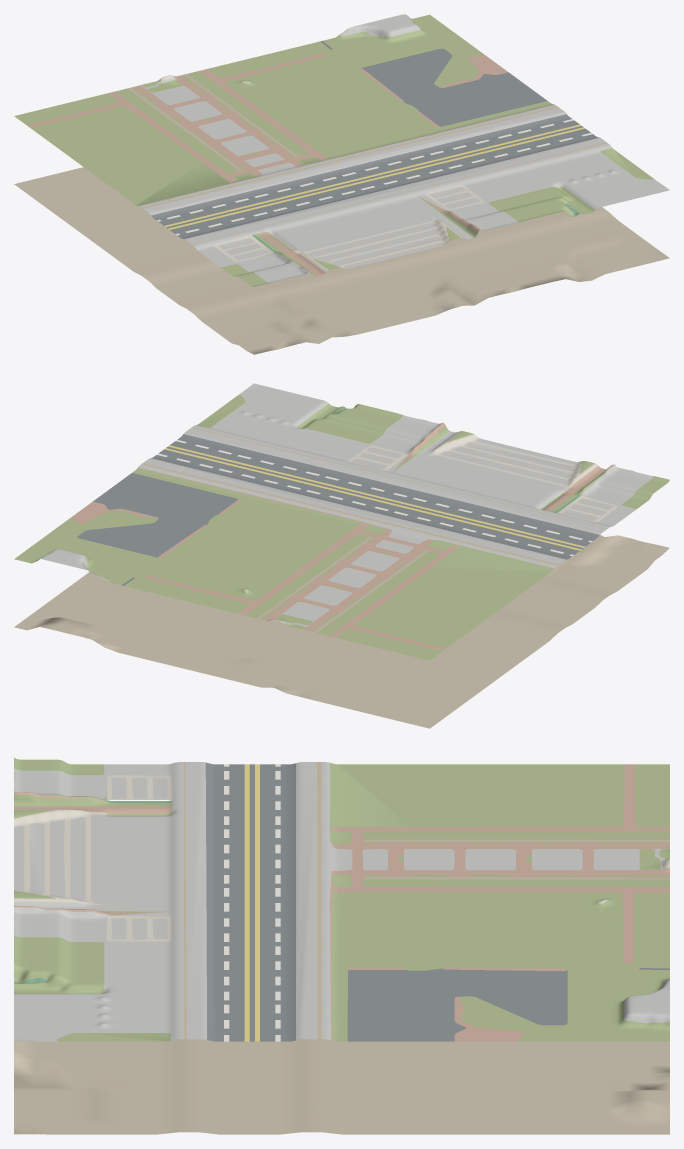
3 renders of one model, top to bottom at view 1: azimuth 30°, elevation 25°; view 2: azimuth 150°, elevation 25°; view 3: azimuth 270°, elevation 25°, orthographic. The views are drawn at different scales.
Parts seen in each view (by area): view 1: s_-1_-2__soil, s_-1_-2__grass, s_-1_-2__stone_paving, s_-1_-2__asphalt, s_-1_-2__brick_paving, s_-1_-2__paving, s_-1_-2__yellow_marking, s_-1_-2__timber_deck, s_-1_-2__white_marking; view 2: s_-1_-2__soil, s_-1_-2__grass, s_-1_-2__stone_paving, s_-1_-2__asphalt, s_-1_-2__brick_paving, s_-1_-2__paving, s_-1_-2__yellow_marking, s_-1_-2__timber_deck, s_-1_-2__white_marking; view 3: s_-1_-2__grass, s_-1_-2__soil, s_-1_-2__stone_paving, s_-1_-2__asphalt, s_-1_-2__brick_paving, s_-1_-2__paving, s_-1_-2__yellow_marking, s_-1_-2__white_marking, s_-1_-2__timber_deck.
Part boxes in pixels (x1=…): s_-1_-2__soil: x1=14, y1=74, x2=669, y2=354; s_-1_-2__grass: x1=14, y1=14, x2=653, y2=286; s_-1_-2__stone_paving: x1=139, y1=14, x2=669, y2=282; s_-1_-2__asphalt: x1=151, y1=41, x2=598, y2=238; s_-1_-2__brick_paving: x1=27, y1=49, x2=553, y2=276; s_-1_-2__paving: x1=160, y1=75, x2=656, y2=272; s_-1_-2__yellow_marking: x1=164, y1=124, x2=584, y2=229; s_-1_-2__timber_deck: x1=142, y1=106, x2=606, y2=244; s_-1_-2__white_marking: x1=157, y1=119, x2=592, y2=235; s_-1_-2__soil: x1=14, y1=534, x2=669, y2=728; s_-1_-2__grass: x1=14, y1=395, x2=669, y2=660; s_-1_-2__stone_paving: x1=39, y1=383, x2=653, y2=627; s_-1_-2__asphalt: x1=77, y1=434, x2=599, y2=585; s_-1_-2__brick_paving: x1=70, y1=422, x2=614, y2=650; s_-1_-2__paving: x1=240, y1=392, x2=618, y2=623; s_-1_-2__yellow_marking: x1=164, y1=445, x2=584, y2=550; s_-1_-2__timber_deck: x1=142, y1=427, x2=607, y2=565; s_-1_-2__white_marking: x1=157, y1=439, x2=592, y2=556; s_-1_-2__grass: x1=14, y1=757, x2=669, y2=1041; s_-1_-2__soil: x1=14, y1=839, x2=669, y2=1134; s_-1_-2__stone_paving: x1=14, y1=762, x2=669, y2=1041; s_-1_-2__asphalt: x1=205, y1=762, x2=669, y2=1041; s_-1_-2__brick_paving: x1=14, y1=764, x2=669, y2=1041; s_-1_-2__paving: x1=14, y1=775, x2=669, y2=1041; s_-1_-2__yellow_marking: x1=244, y1=764, x2=259, y2=1041; s_-1_-2__white_marking: x1=224, y1=764, x2=280, y2=1041; s_-1_-2__timber_deck: x1=184, y1=762, x2=321, y2=1039.
Bounding box in the file's own units: 128 × 23.06 × 128.
